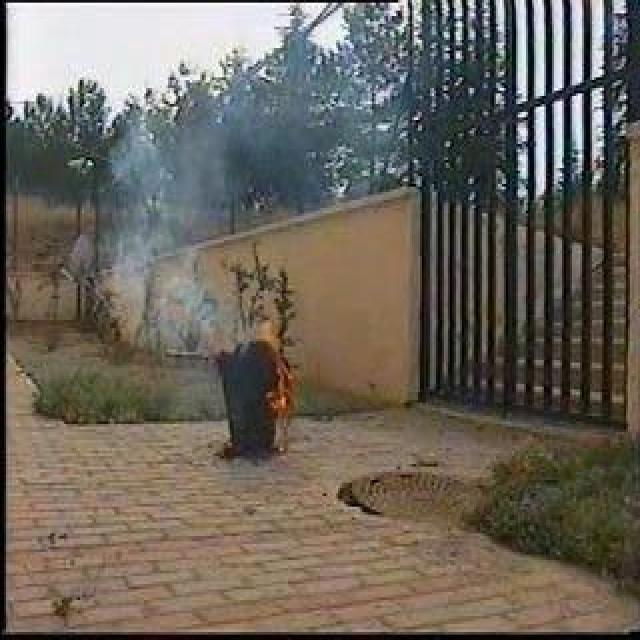Fire: (259, 317, 297, 416)
Smoke: (112, 101, 230, 347)
